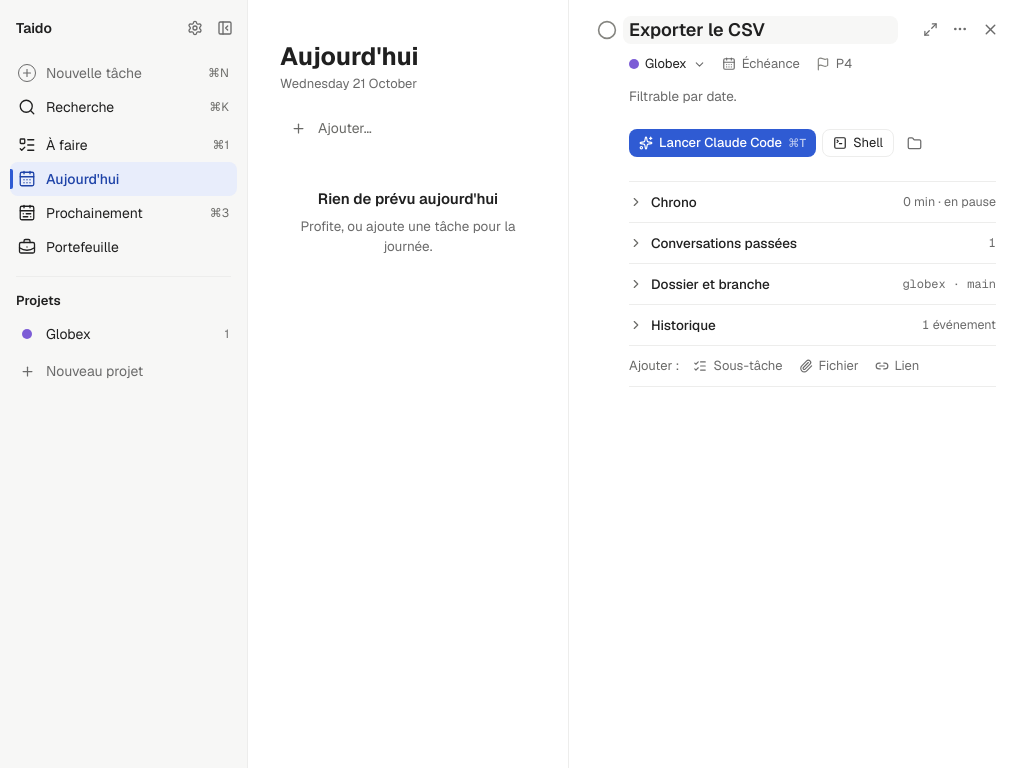
Test: « Conversations passées »: Haiku recap and rename › shows Haiku's recap with its marker once the session ended
This screenshot has width=1024, height=768.
Expected: the text box named "Titre de la tâche" is shown, top-left (623, 16), bottom-right (898, 44)
Click the button "Conversations passées 1".
click(724, 243)  # box top-left (629, 223), bottom-right (996, 263)
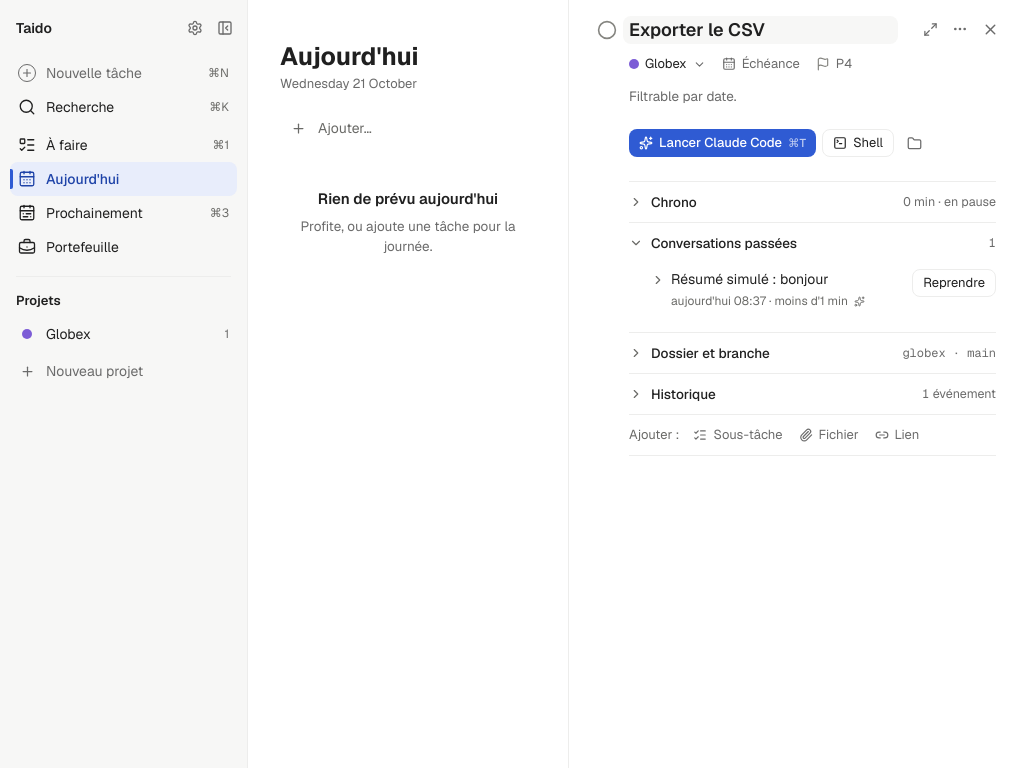
Expected: the text "Résumé simulé : bonjour" is shown, top-left (671, 270), bottom-right (829, 288)
